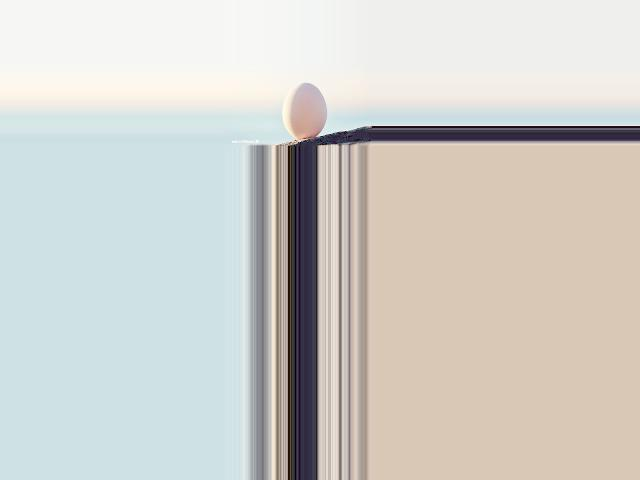egg: (281, 82, 327, 139)
